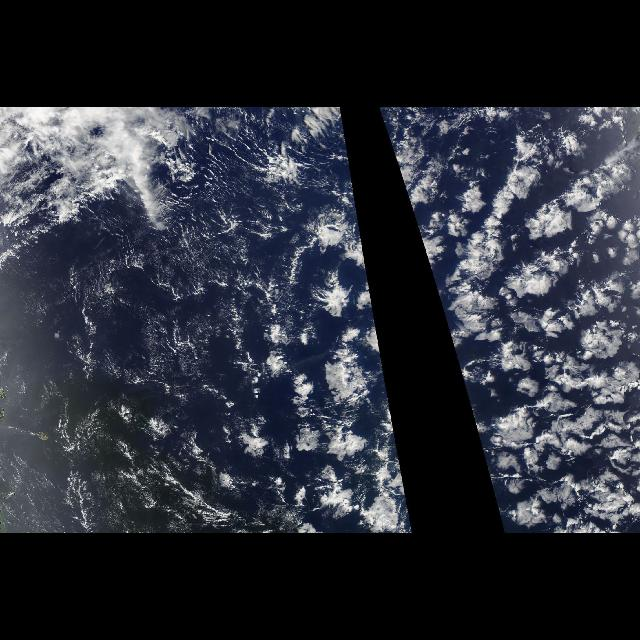Flower: (380, 111, 640, 533), (288, 111, 412, 533)
Sugar: (8, 254, 258, 503)
